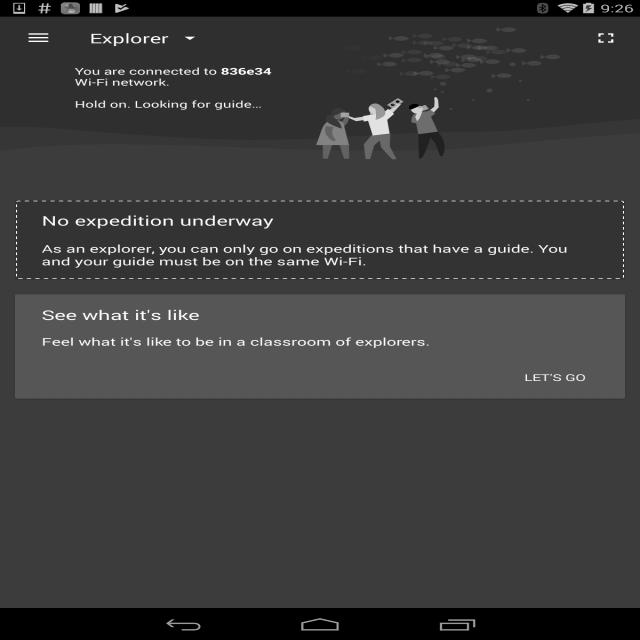Button: (511, 360, 598, 396)
ImageButton: (9, 17, 68, 59)
ImageView: (0, 17, 640, 187)
TextView: (41, 242, 598, 268), (75, 60, 288, 110), (41, 212, 598, 230), (42, 334, 430, 349), (85, 17, 203, 59), (42, 306, 200, 324), (580, 22, 632, 54)
